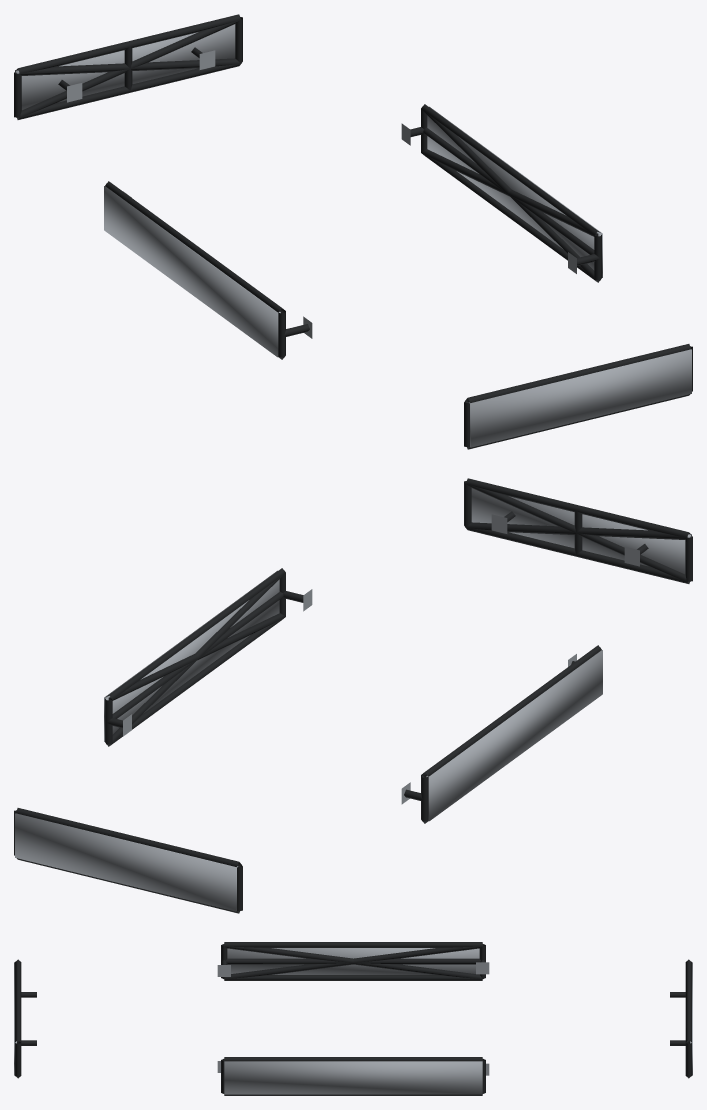
Rendered from feldhaus_vertente_protecao.glb.
3 views of the same model, one above another, from view 1: azimuth 30°, elevation 25°; view 2: azimuth 150°, elevation 25°; view 3: azimuth 270°, elevation 25° (orthographic). The views are drawn at different scales.
Visible parts, largest first — view 1: Protection_front_Level3_Details, Protection_left_Level3_Details, Protection_rear_Level3_Details, Protection_rear_Level1_Details, Protection_right_Level1_Details, Protection_right_Level2_Details, Protection_right_Level3_Details, Protection_rear_Level2_Details, Protection_front_Level1_Details, Protection_left_Level1_Details; view 2: Protection_rear_Level3_Details, Protection_left_Level3_Details, Protection_front_Level3_Details, Protection_front_Level1_Details, Protection_right_Level1_Details, Protection_right_Level2_Details, Protection_right_Level3_Details, Protection_front_Level2_Details, Protection_rear_Level1_Details, Protection_left_Level1_Details; view 3: Protection_right_Level3_Details, Protection_left_Level2_Details, Protection_left_Level3_Details, Protection_left_Level1_Details, Protection_right_Level1_Details, Protection_rear_Level1_Details, Protection_front_Level1_Details.
Part boxes in pixels (box(x1,y1,x2,y2)): Protection_front_Level3_Details: box(468, 349, 691, 447); Protection_left_Level3_Details: box(104, 186, 280, 357); Protection_rear_Level3_Details: box(15, 24, 235, 110); Protection_rear_Level1_Details: box(14, 14, 242, 119); Protection_right_Level1_Details: box(401, 104, 601, 282); Protection_right_Level2_Details: box(421, 110, 600, 282); Protection_right_Level3_Details: box(427, 106, 602, 277); Protection_rear_Level2_Details: box(16, 20, 240, 119); Protection_front_Level1_Details: box(464, 344, 692, 449); Protection_left_Level1_Details: box(105, 181, 312, 359); Protection_rear_Level3_Details: box(15, 813, 238, 911); Protection_left_Level3_Details: box(426, 650, 602, 821); Protection_front_Level3_Details: box(471, 488, 691, 574); Protection_front_Level1_Details: box(464, 478, 692, 583); Protection_right_Level1_Details: box(105, 568, 312, 746); Protection_right_Level2_Details: box(106, 574, 285, 746); Protection_right_Level3_Details: box(104, 570, 279, 741); Protection_front_Level2_Details: box(466, 484, 690, 583); Protection_rear_Level1_Details: box(14, 808, 242, 913); Protection_left_Level1_Details: box(401, 645, 601, 823); Protection_right_Level3_Details: box(224, 1061, 482, 1094); Protection_left_Level2_Details: box(224, 944, 482, 979); Protection_left_Level3_Details: box(227, 948, 479, 974); Protection_left_Level1_Details: box(217, 942, 489, 980); Protection_right_Level1_Details: box(217, 1057, 489, 1095); Protection_rear_Level1_Details: box(670, 959, 691, 1078); Protection_front_Level1_Details: box(15, 959, 36, 1078).
Bounding box in the file's own units: 2.32 × 0.354 × 5.62.
1 material, 1 textured.
